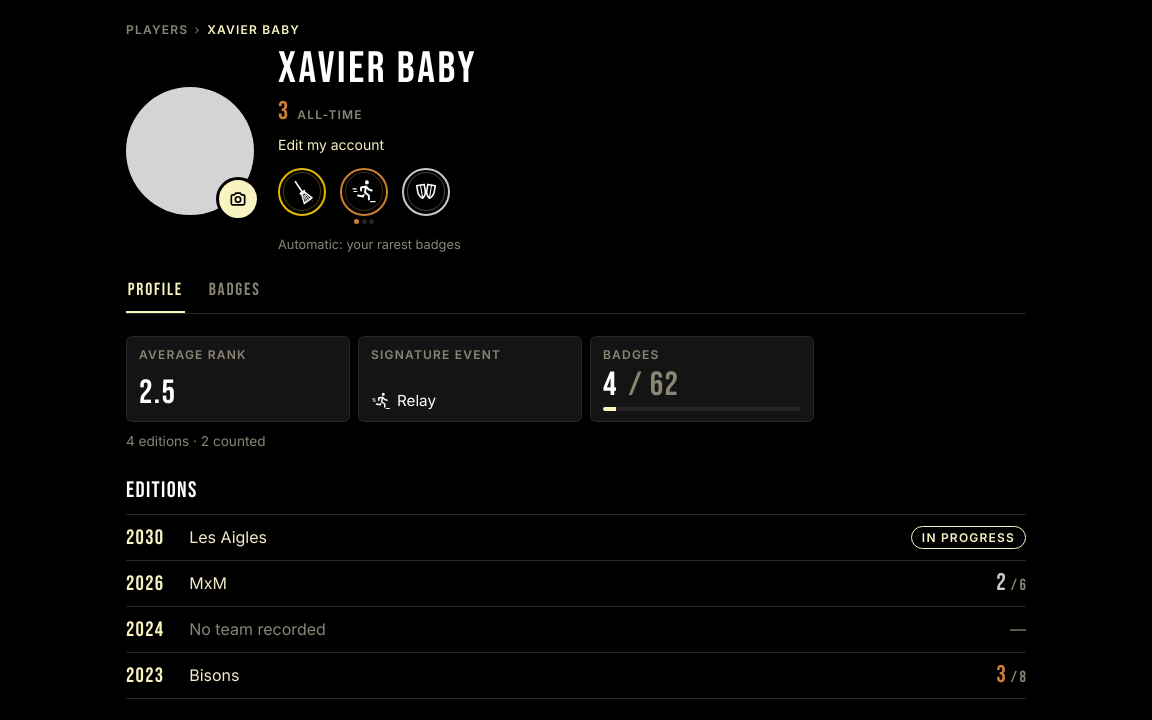
Test: player profile page › owner view: the photo › closes the editor on the way to someone else's profile, and does not reopen it
The width and height of the screenshot is (1152, 720).
Click the button named "Change my photo" at (238, 199), box top-left (216, 177), bottom-right (260, 221)
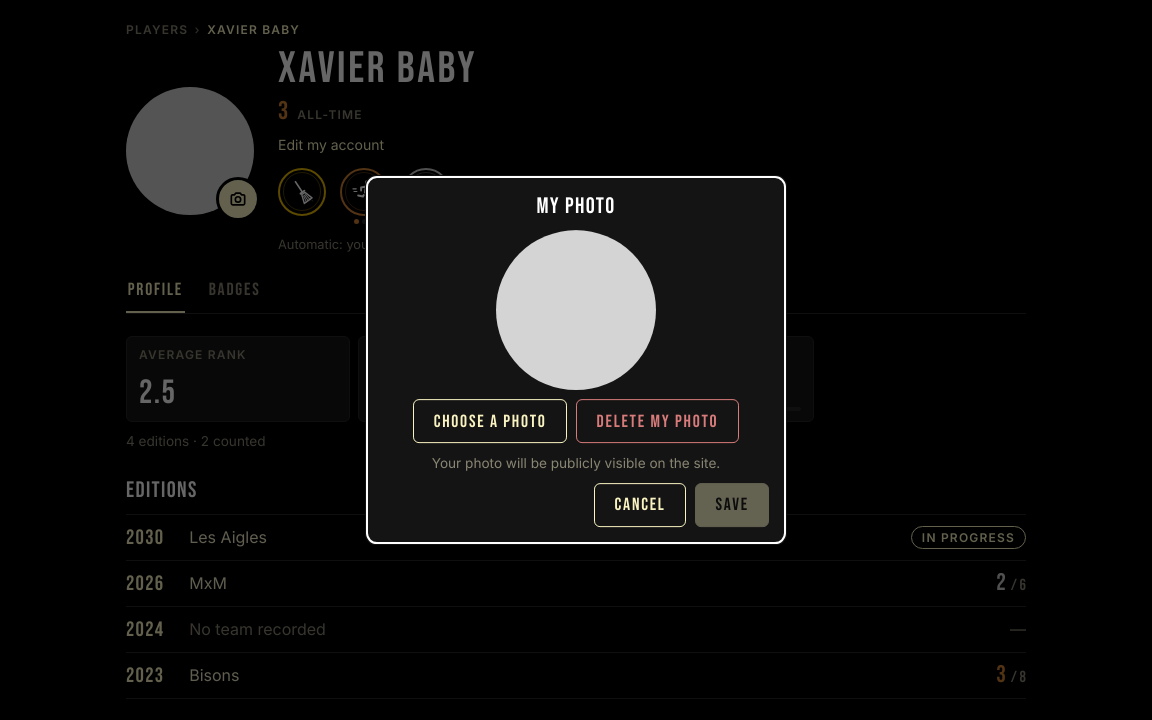
Expected: the dialog "My photo" is shown, top-left (366, 176), bottom-right (786, 544)
